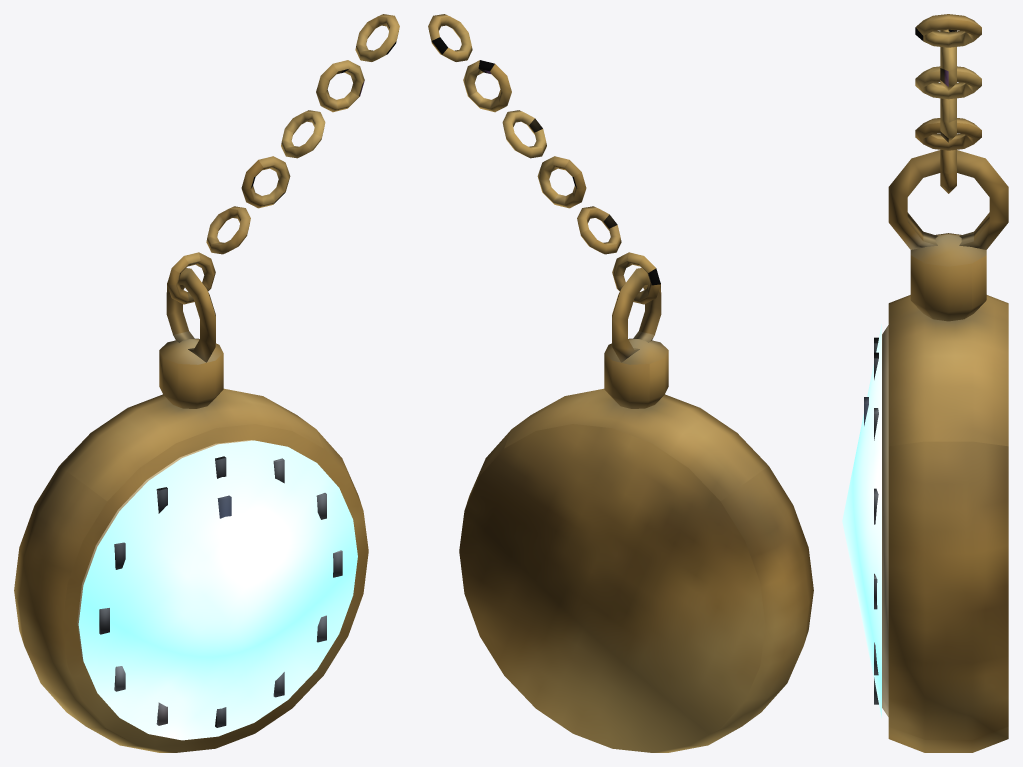
File: Stopwatch.fbx
3 renders of one model, left to right at view 1: azimuth 30°, elevation 25°; view 2: azimuth 150°, elevation 25°; view 3: azimuth 270°, elevation 25°, orthographic. The views are drawn at different scales.
Parts seen in each view (by area): view 1: Stopwatch; view 2: Stopwatch; view 3: Stopwatch.
Boxes of the visible parts, x1=… form: Stopwatch: x1=14, y1=14, x2=399, y2=752; Stopwatch: x1=428, y1=14, x2=813, y2=752; Stopwatch: x1=842, y1=14, x2=1008, y2=752.
Bounding box in the file's own units: 0.1574 × 0.2774 × 0.0501.
